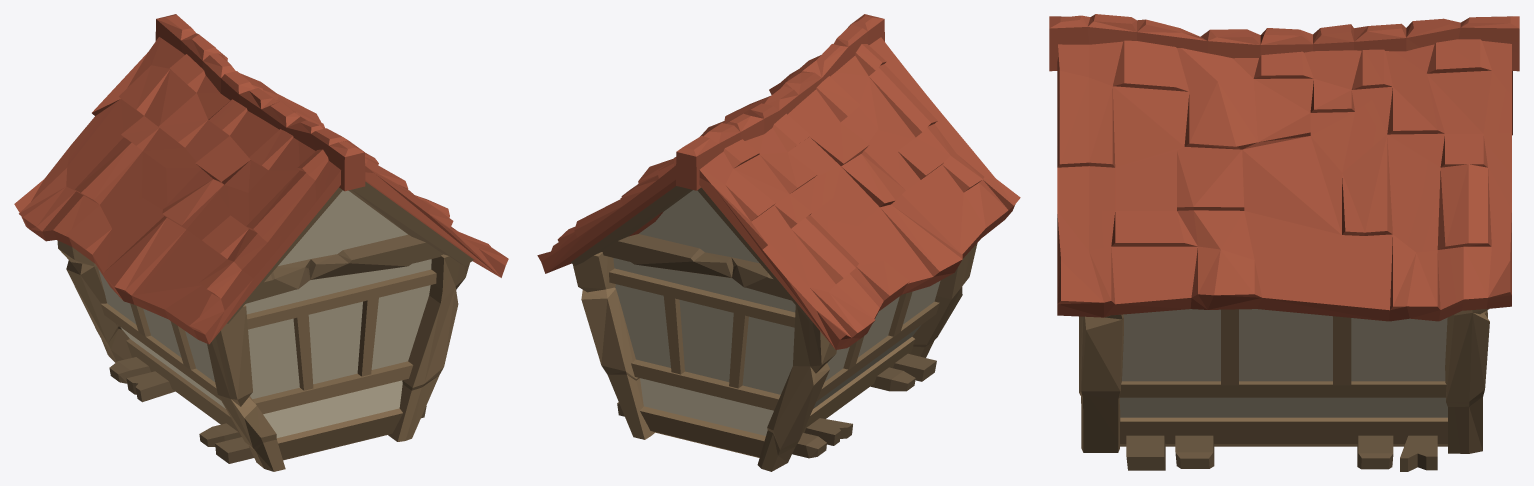
Rendered from SM_Bld_House_TopRoomSmall_07.gltf.
3 views of the same model, side by side, from view 1: azimuth 30°, elevation 25°; view 2: azimuth 150°, elevation 25°; view 3: azimuth 270°, elevation 25° (orthographic). The views are drawn at different scales.
Visible parts, largest first — view 1: SM_Bld_House_TopRoomSmall_07; view 2: SM_Bld_House_TopRoomSmall_07; view 3: SM_Bld_House_TopRoomSmall_07.
Part boxes in pixels (x1,y1,x2,y2): SM_Bld_House_TopRoomSmall_07: [14, 14, 508, 471]; SM_Bld_House_TopRoomSmall_07: [537, 14, 1020, 471]; SM_Bld_House_TopRoomSmall_07: [1049, 14, 1519, 471].
Bounding box in the file's own units: 4.68 × 4.29 × 4.67.
1 material, 1 textured.
